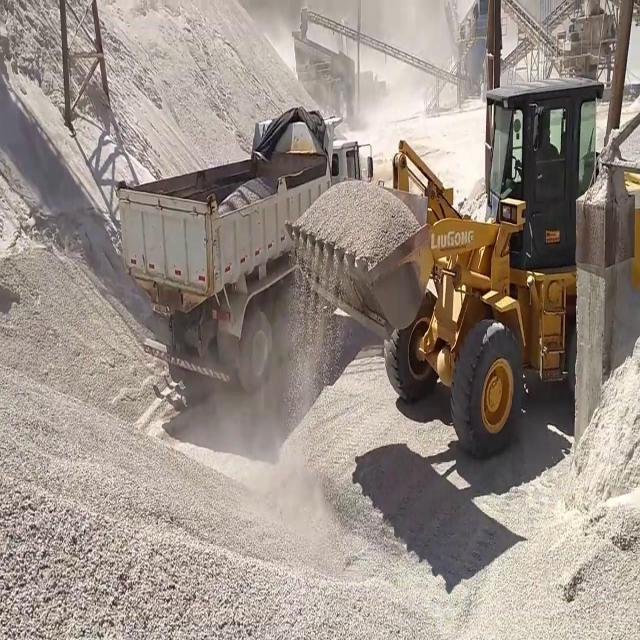Dump Truck: (114, 113, 373, 394)
Loader: (284, 76, 640, 458)
